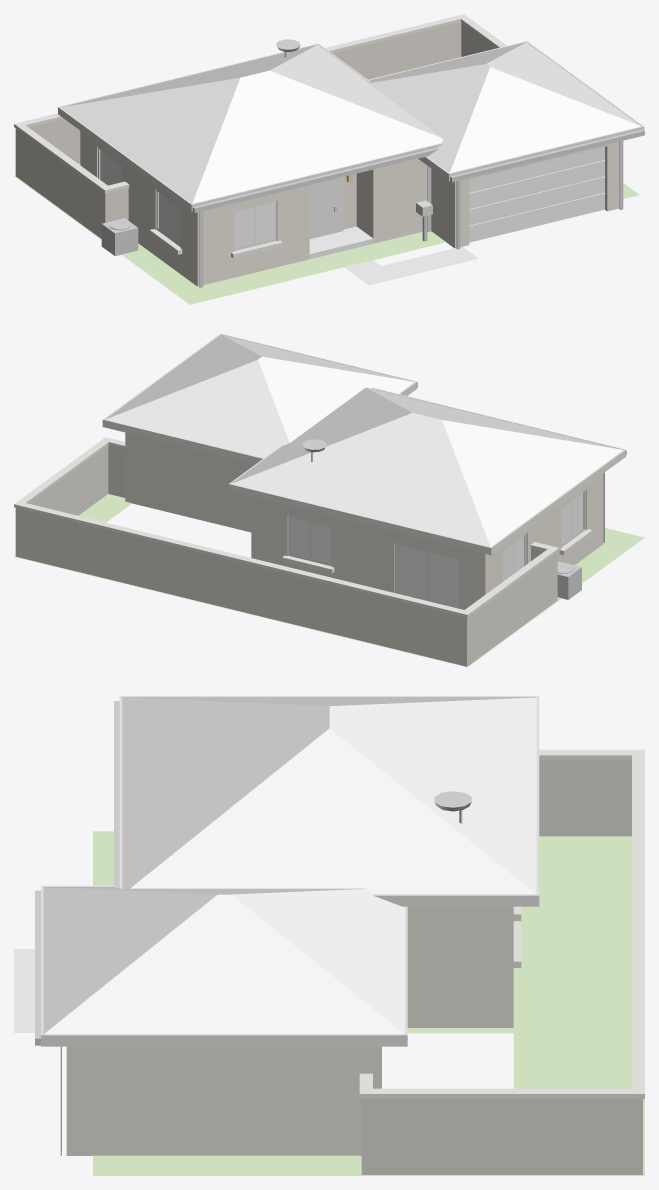
File: house_ranch62s.glb
3 renders of one model, top to bottom at view 1: azimuth 30°, elevation 25°; view 2: azimuth 150°, elevation 25°; view 3: azimuth 270°, elevation 25°, orthographic. The views are drawn at different scales.
Parts seen in each view (by area): view 1: house_ranch62s_Roof, house_ranch62s_Walls, house_ranch62s_Walls2, house_ranch62s_Doors, house_ranch62s_Trim, house_ranch62s_Details, house_ranch62s_Lawn, house_ranch62s_Site, house_ranch62s_Glass, house_ranch62s_Frames; view 2: house_ranch62s_Roof, house_ranch62s_Walls2, house_ranch62s_Walls, house_ranch62s_Trim, house_ranch62s_Glass, house_ranch62s_Lawn, house_ranch62s_Frames, house_ranch62s_Details; view 3: house_ranch62s_Roof, house_ranch62s_Walls, house_ranch62s_Lawn, house_ranch62s_Walls2, house_ranch62s_Trim, house_ranch62s_Details, house_ranch62s_Site.
Boxes of the visible parts, x1=… form: house_ranch62s_Roof: x1=61, y1=42, x2=640, y2=203; house_ranch62s_Walls: x1=80, y1=131, x2=619, y2=286; house_ranch62s_Walls2: x1=15, y1=22, x2=496, y2=238; house_ranch62s_Doors: x1=469, y1=147, x2=605, y2=242; house_ranch62s_Trim: x1=14, y1=14, x2=644, y2=258; house_ranch62s_Details: x1=101, y1=39, x2=644, y2=287; house_ranch62s_Lawn: x1=14, y1=163, x2=639, y2=304; house_ranch62s_Site: x1=309, y1=226, x2=478, y2=285; house_ranch62s_Glass: x1=100, y1=150, x2=274, y2=248; house_ranch62s_Frames: x1=98, y1=147, x2=343, y2=250; house_ranch62s_Roof: x1=105, y1=334, x2=622, y2=546; house_ranch62s_Walls2: x1=15, y1=445, x2=557, y2=666; house_ranch62s_Walls: x1=125, y1=432, x2=603, y2=609; house_ranch62s_Trim: x1=14, y1=333, x2=625, y2=617; house_ranch62s_Glass: x1=290, y1=493, x2=583, y2=608; house_ranch62s_Lawn: x1=14, y1=494, x2=644, y2=667; house_ranch62s_Frames: x1=288, y1=490, x2=585, y2=608; house_ranch62s_Details: x1=302, y1=382, x2=626, y2=599; house_ranch62s_Roof: x1=43, y1=697, x2=536, y2=1033; house_ranch62s_Walls: x1=66, y1=906, x2=513, y2=1155; house_ranch62s_Lawn: x1=93, y1=831, x2=644, y2=1175; house_ranch62s_Walls2: x1=361, y1=760, x2=642, y2=1174; house_ranch62s_Trim: x1=41, y1=696, x2=644, y2=1098; house_ranch62s_Details: x1=35, y1=701, x2=471, y2=1155; house_ranch62s_Site: x1=14, y1=949, x2=34, y2=1032.
Size of the model in its own units: 62.85 by 18.64 by 48.
